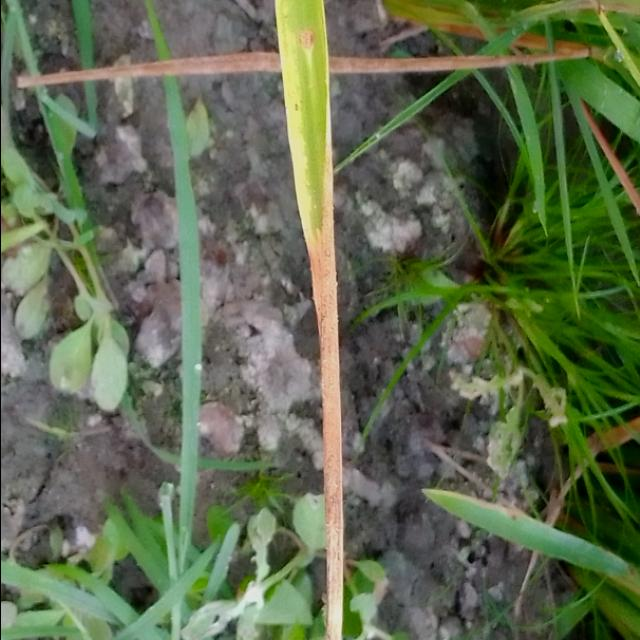Hawar Daun Bakteri: (250, 53, 361, 640)
